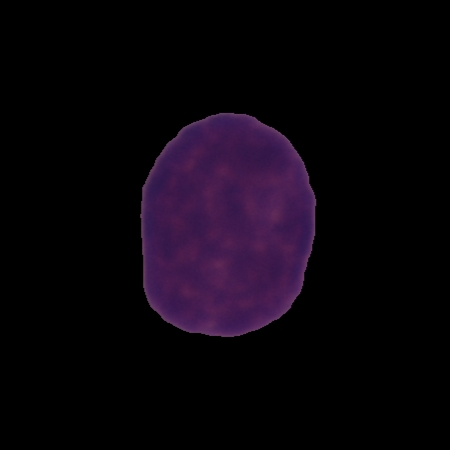HEM: (136, 109, 320, 340)
